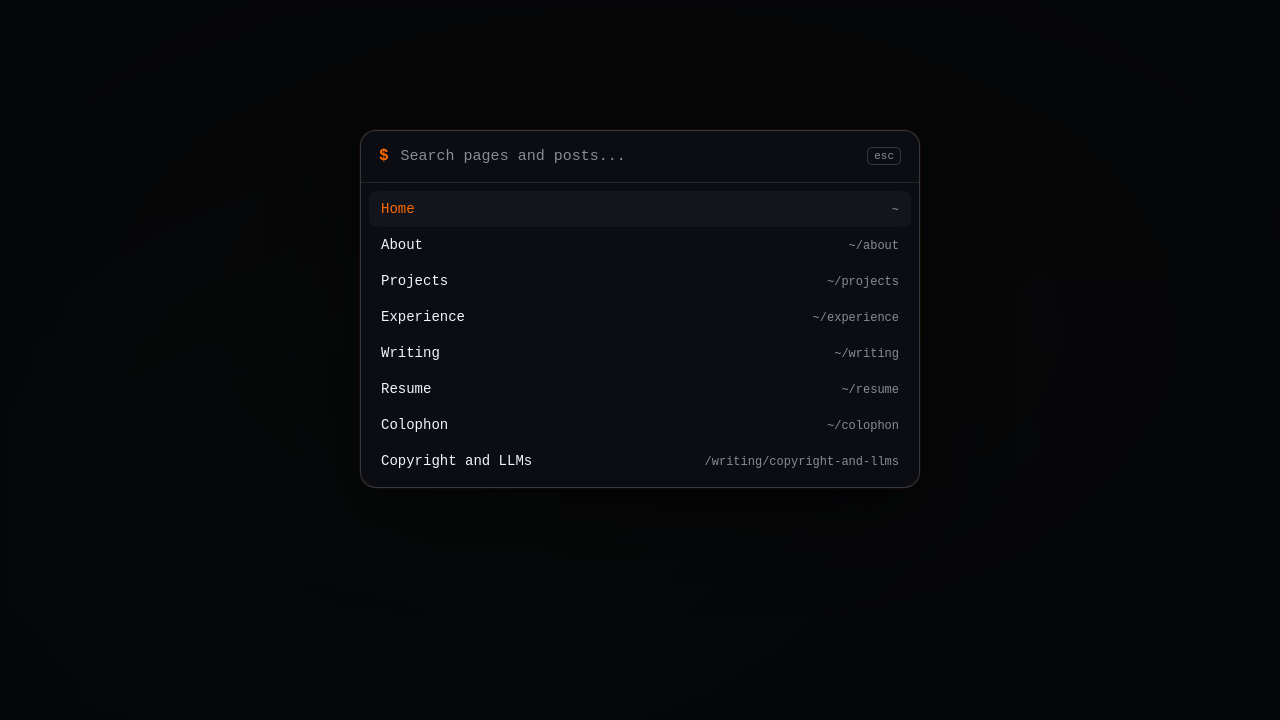
Test case: CommandPalette › shows an empty state when nothing matches
Type "zzz-no-match" into the dropdown with placeholder "Search pages and posts..." at coordinates (628, 156), box [399,147,857,166]
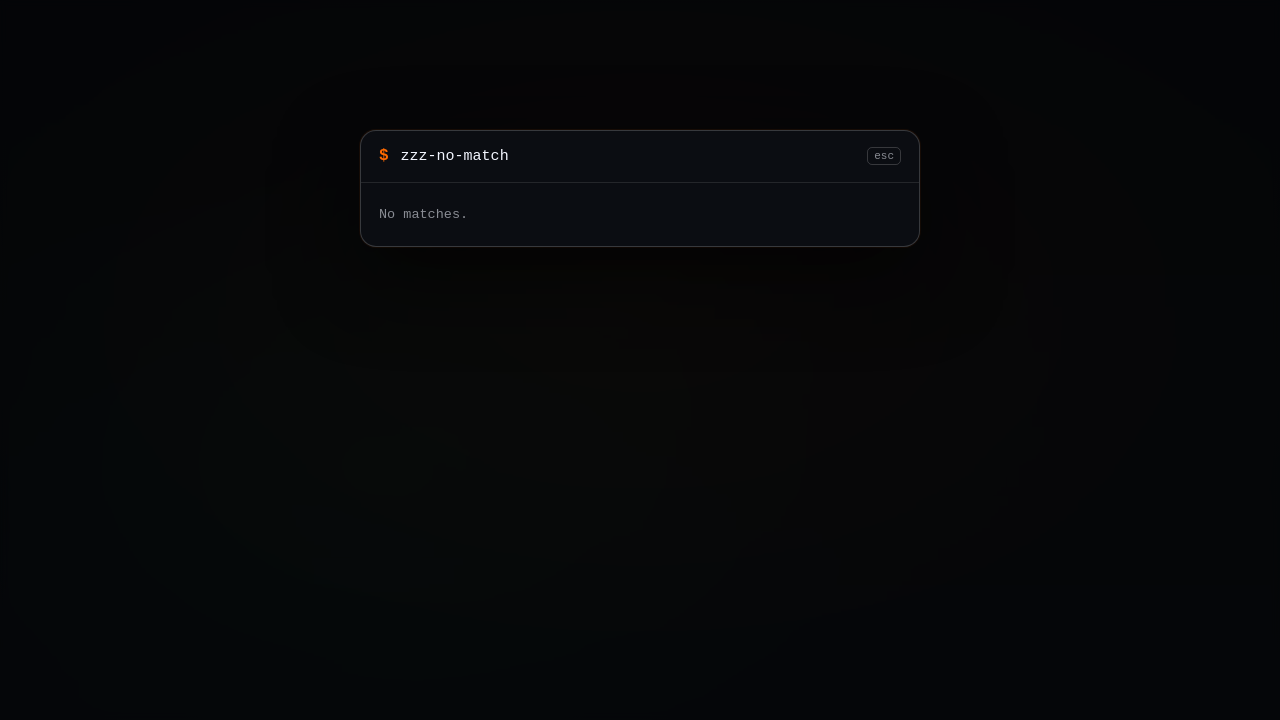
expect the text "No matches." is shown: met, box [379,207,468,222]
